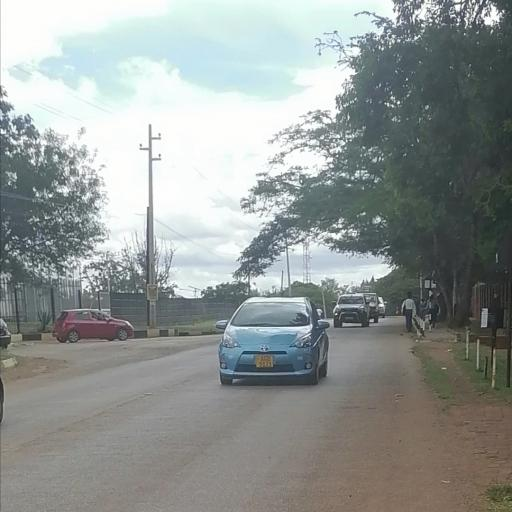number-plates: (251, 354, 278, 370)
